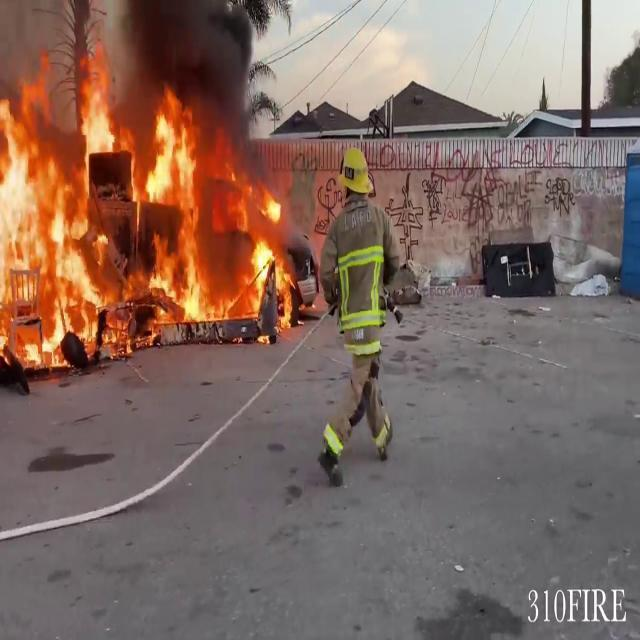Fire: (0, 42, 293, 368)
Smoke: (0, 0, 275, 132)
